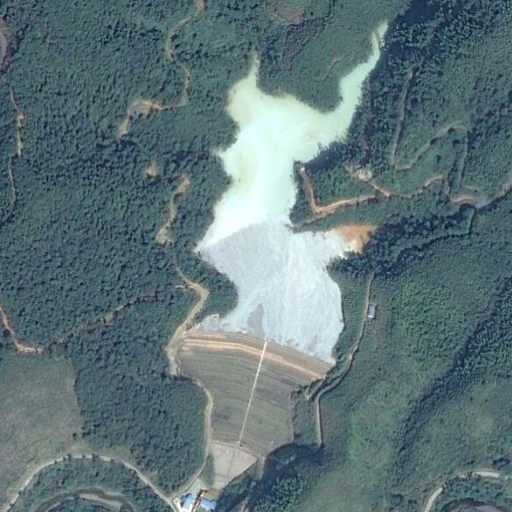tp: (175, 19, 391, 489)
